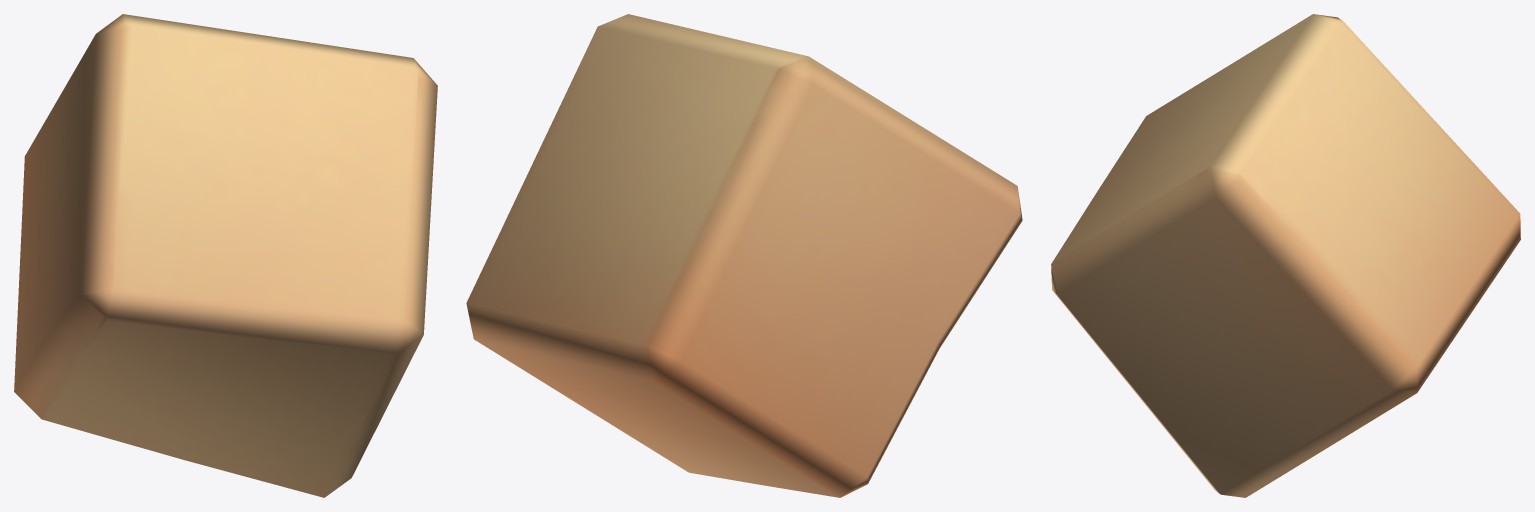
Rendered from JapaneseRestaurant_PotBTofuC.fbx.
3 renders of one model, left to right at view 1: azimuth 30°, elevation 25°; view 2: azimuth 150°, elevation 25°; view 3: azimuth 270°, elevation 25°, orthographic. The views are drawn at different scales.
Visible parts, largest first — view 1: JapaneseRestaurant_PotBTofuC; view 2: JapaneseRestaurant_PotBTofuC; view 3: JapaneseRestaurant_PotBTofuC.
Part boxes in pixels (box(x1,y1,x2,y2)): JapaneseRestaurant_PotBTofuC: box(14, 14, 437, 497); JapaneseRestaurant_PotBTofuC: box(466, 14, 1022, 497); JapaneseRestaurant_PotBTofuC: box(1051, 14, 1520, 497).
Size of the model in its own units: 3.47 by 3.79 by 3.87.
